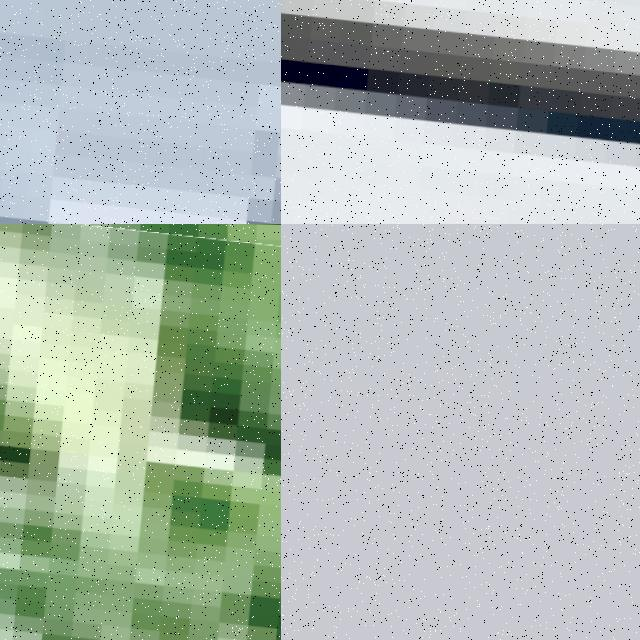drone: (0, 224, 281, 640), (281, 0, 640, 224), (0, 0, 281, 224)
